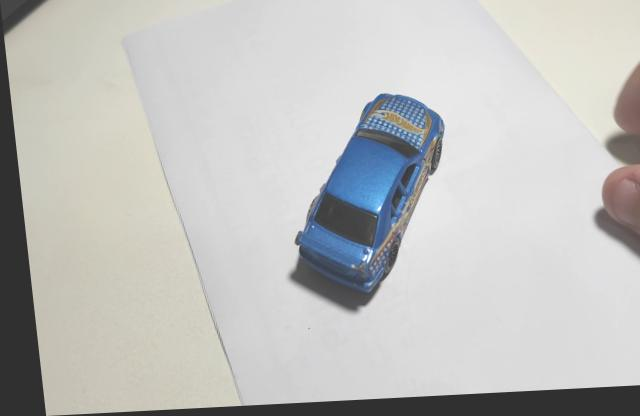04_MERZEDES: (282, 98, 443, 315)
